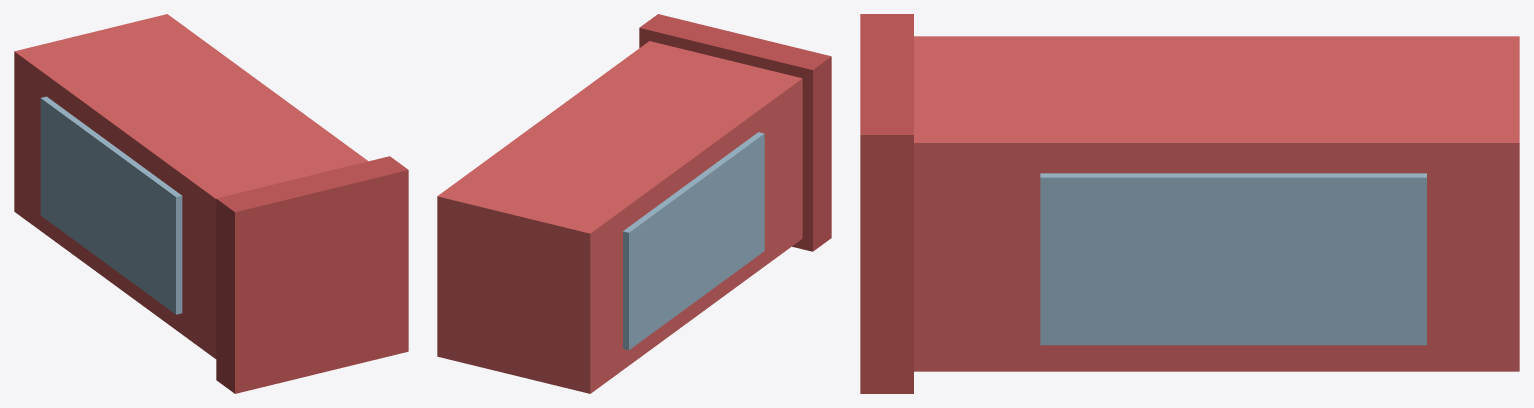
File: city_red_phone_booth.glb
3 views of the same model, side by side, from view 1: azimuth 30°, elevation 25°; view 2: azimuth 150°, elevation 25°; view 3: azimuth 270°, elevation 25° (orthographic). The views are drawn at different scales.
Visible parts, largest first — view 1: booth_frame, roof, glass_side_l; view 2: booth_frame, glass_side_l, roof; view 3: booth_frame, glass_side_r, roof.
Boxes of the visible parts, <box> form: booth_frame: <box>14,14,367,358</box>; roof: <box>216,156,408,393</box>; glass_side_l: <box>40,96,182,314</box>; booth_frame: <box>437,41,802,393</box>; glass_side_l: <box>623,132,764,350</box>; roof: <box>639,14,831,251</box>; booth_frame: <box>914,36,1519,371</box>; glass_side_r: <box>1040,173,1426,345</box>; roof: <box>860,14,913,393</box>.
Bounding box in the file's own units: 0.85 × 0.85 × 1.96.
